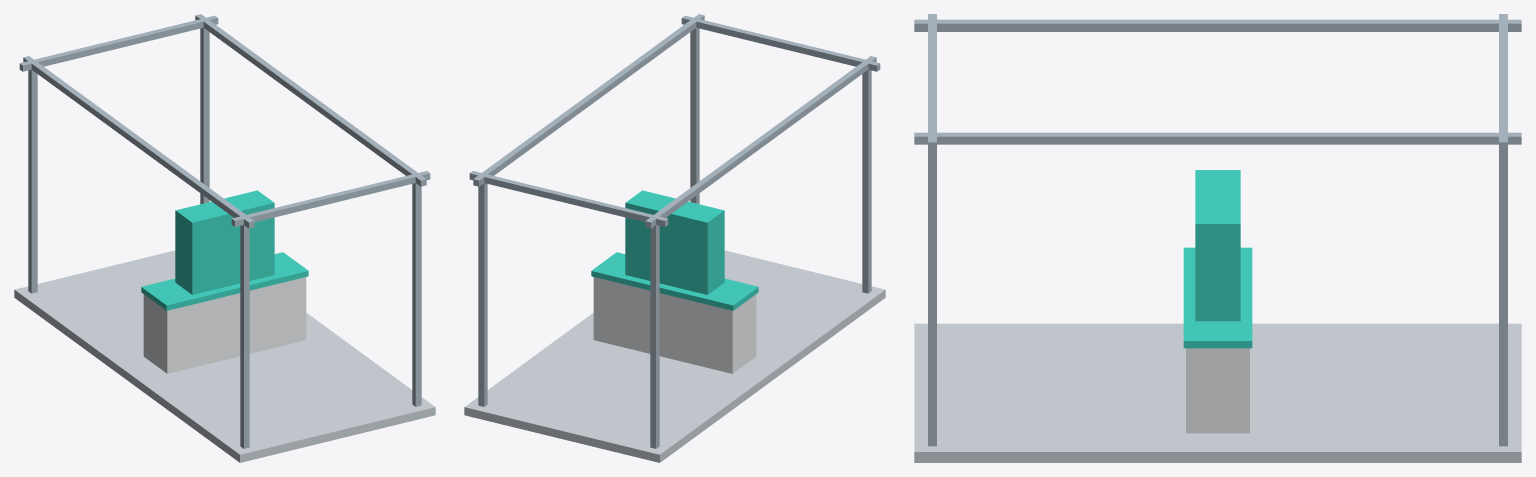
3 views of the same model, side by side, from view 1: azimuth 30°, elevation 25°; view 2: azimuth 150°, elevation 25°; view 3: azimuth 270°, elevation 25° (orthographic). The views are drawn at different scales.
Parts seen in each view (by area): view 1: Exhibition Booth Concept; view 2: Exhibition Booth Concept; view 3: Exhibition Booth Concept.
Boxes of the visible parts, left/top/right/bottom form: Exhibition Booth Concept: left=14, top=14, right=435, bottom=462; Exhibition Booth Concept: left=464, top=14, right=885, bottom=462; Exhibition Booth Concept: left=914, top=14, right=1521, bottom=462.
Bounding box in the file's own units: 3 × 3.49 × 6.
